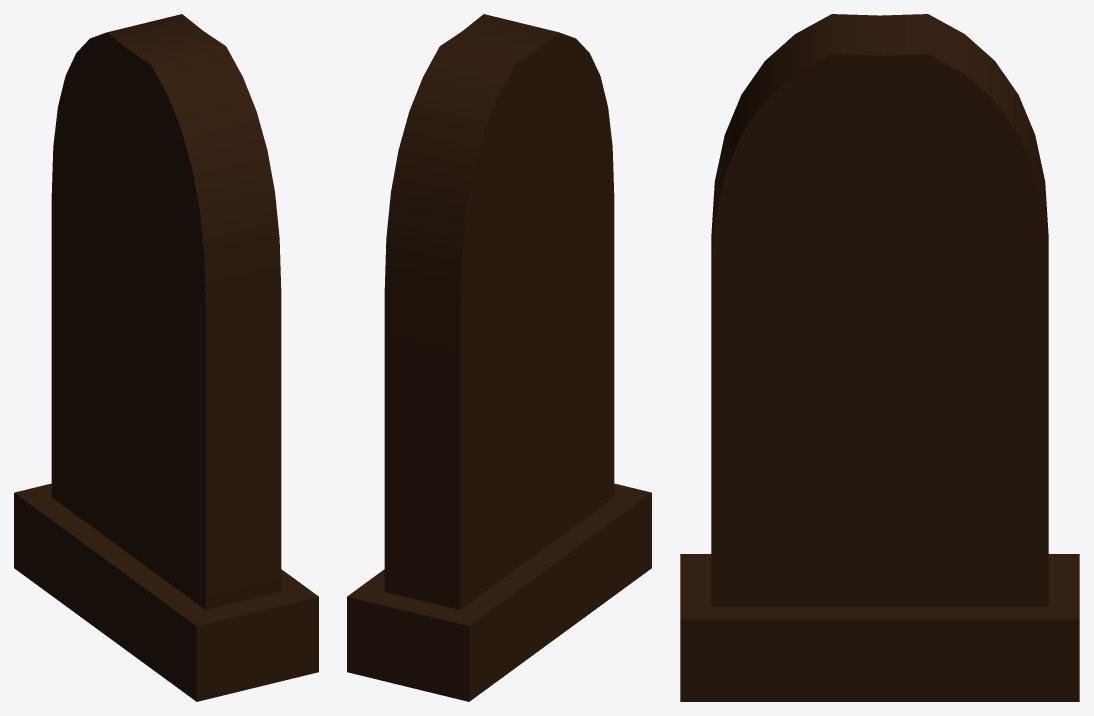
Rendered from TOMB.fbx.
The picture shows the model from 3 angles, left to right: view 1: azimuth 30°, elevation 25°; view 2: azimuth 150°, elevation 25°; view 3: azimuth 270°, elevation 25°; orthographic projection. The views are drawn at different scales.
Visible parts, largest first — view 1: TOMB001; view 2: TOMB001; view 3: TOMB001.
Boxes of the visible parts, left/top/right/bottom form: TOMB001: left=14, top=14, right=318, bottom=701; TOMB001: left=347, top=14, right=651, bottom=701; TOMB001: left=680, top=14, right=1079, bottom=701.
Bounding box in the file's own units: 1.03 × 4.69 × 2.67.
